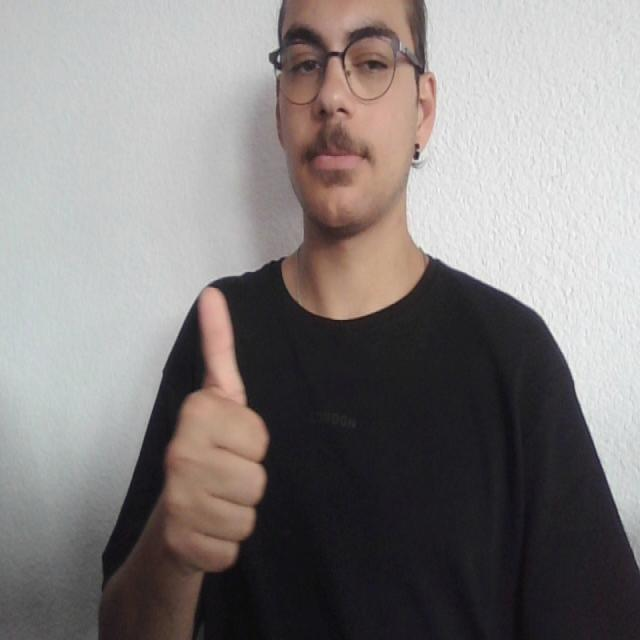Tamam: (147, 280, 275, 580)
